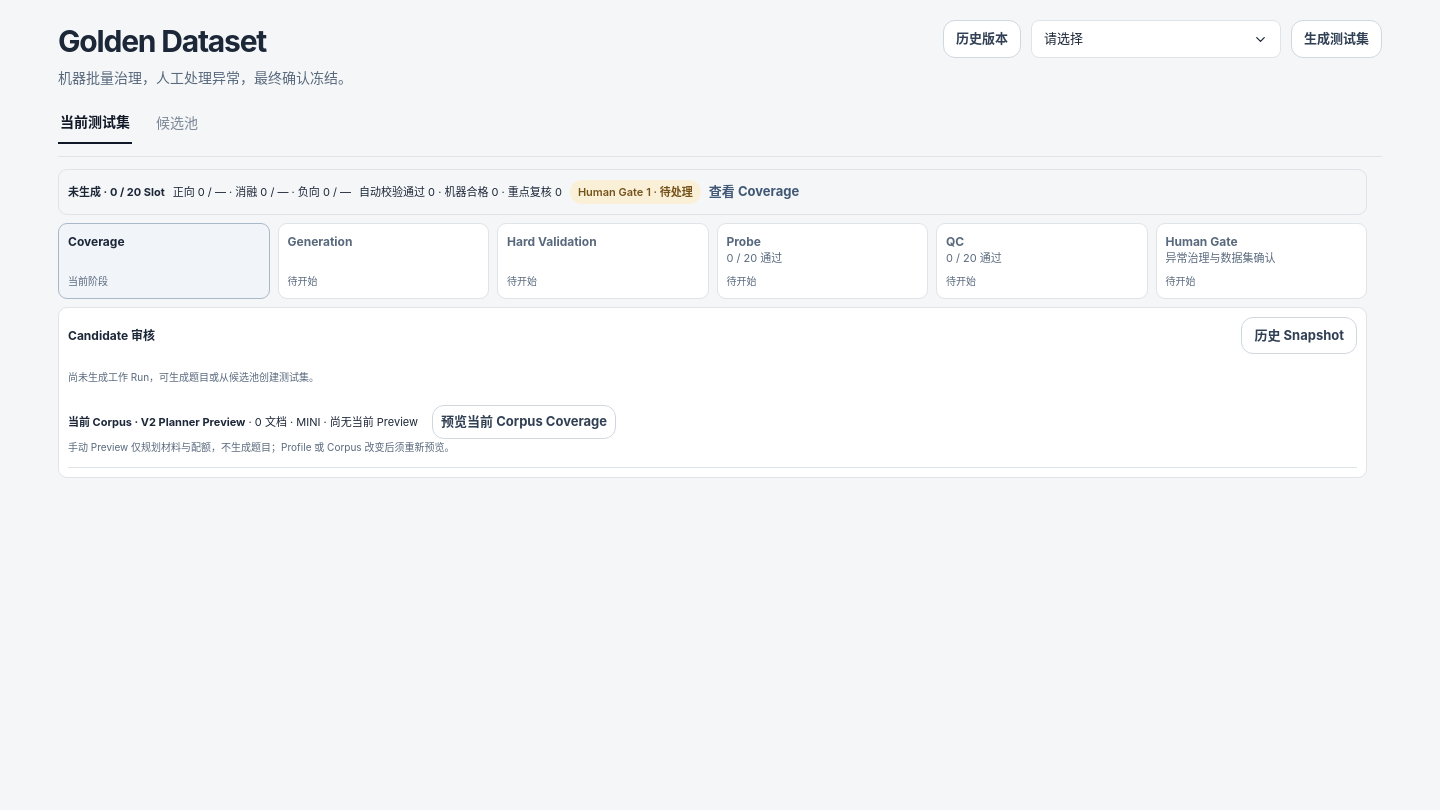
I4 manual current Preview is available with legacy Run=false and preserves saved objects
The width and height of the screenshot is (1440, 810).
Click the button "预览当前 Corpus Coverage" at coordinates (524, 422), box [432,405,616,439]
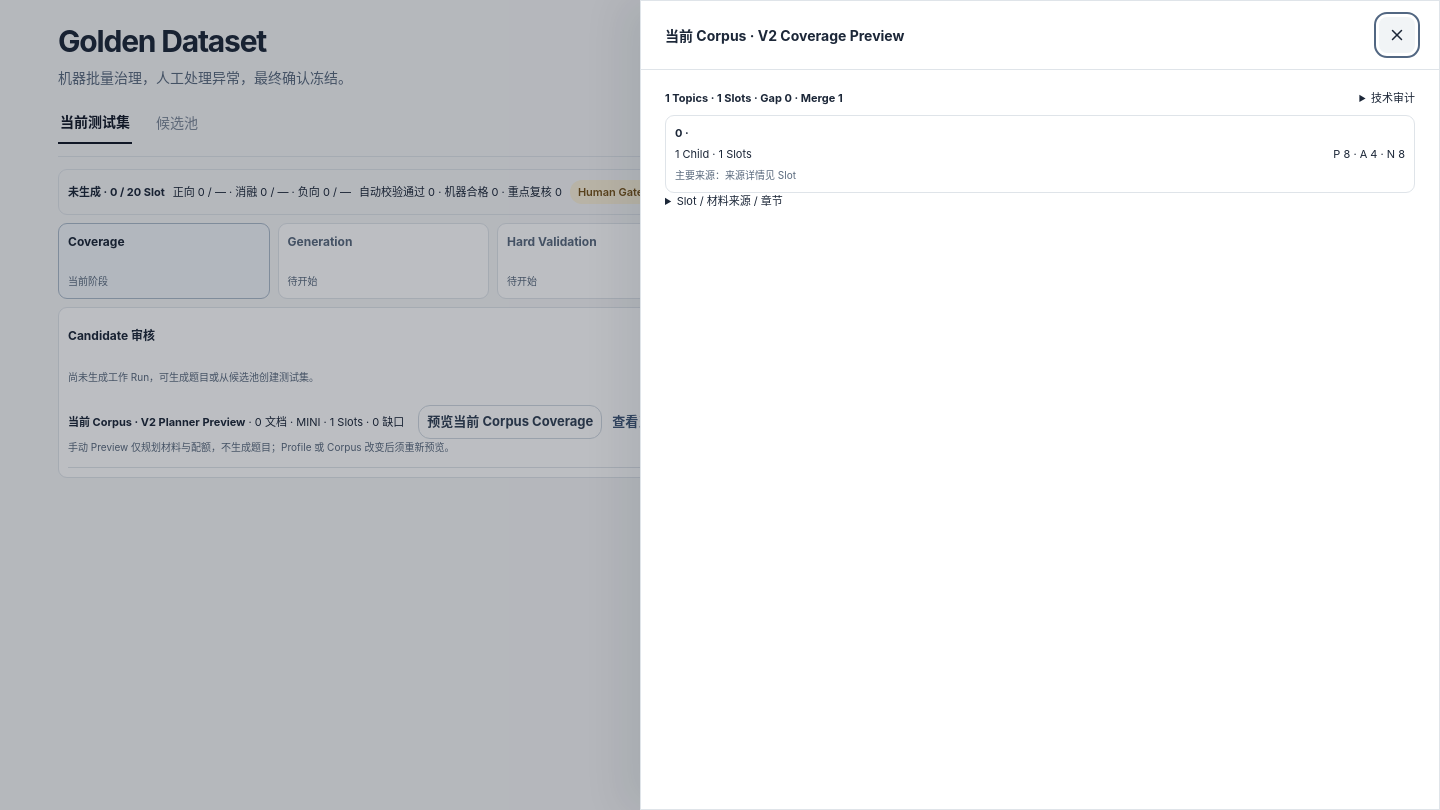
Now the text "当前 Corpus · V2 Coverage Preview" is shown, box [665,24,904,46]
Now the text "1 Topics · 1 Slots · Gap 0 · Merge 1" is shown, box [665,90,843,106]
